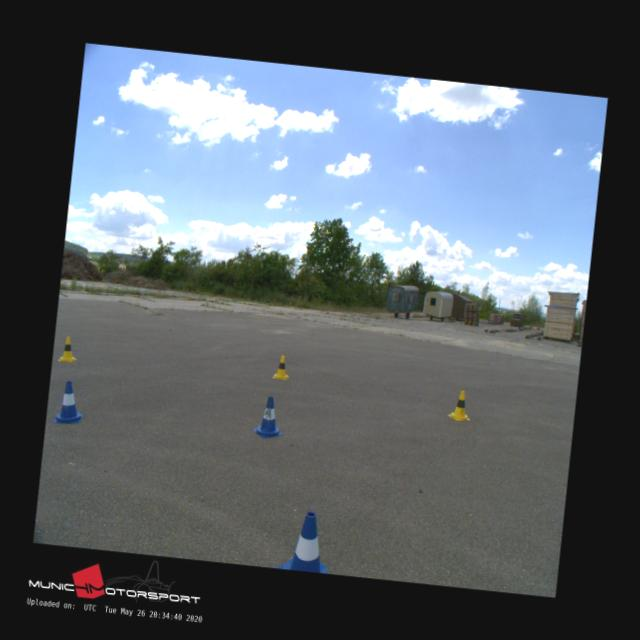blue_cone: (276, 508, 334, 573), (250, 394, 284, 438), (53, 380, 85, 424)
yellow_cone: (447, 388, 472, 421), (58, 336, 78, 362), (272, 354, 290, 378)
